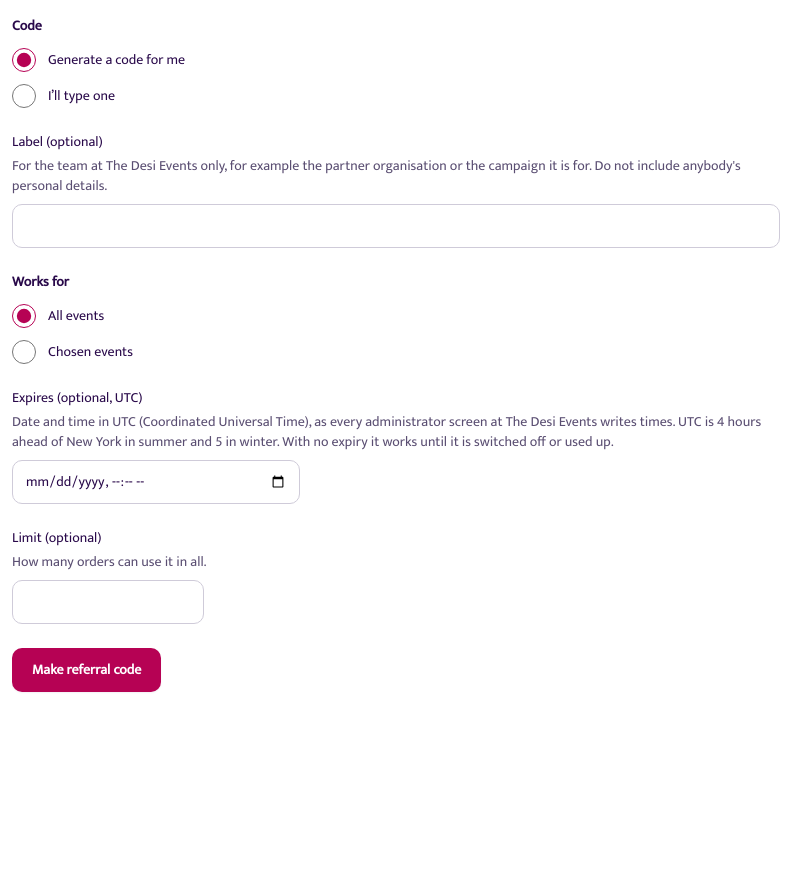
Scenario: making a referral code › puts the typed code’s problem in a summary that takes focus, before sending anything
The image size is (799, 877).
Click the radio button labelled "I’ll type one" at (24, 96), box [12,84,36,108]
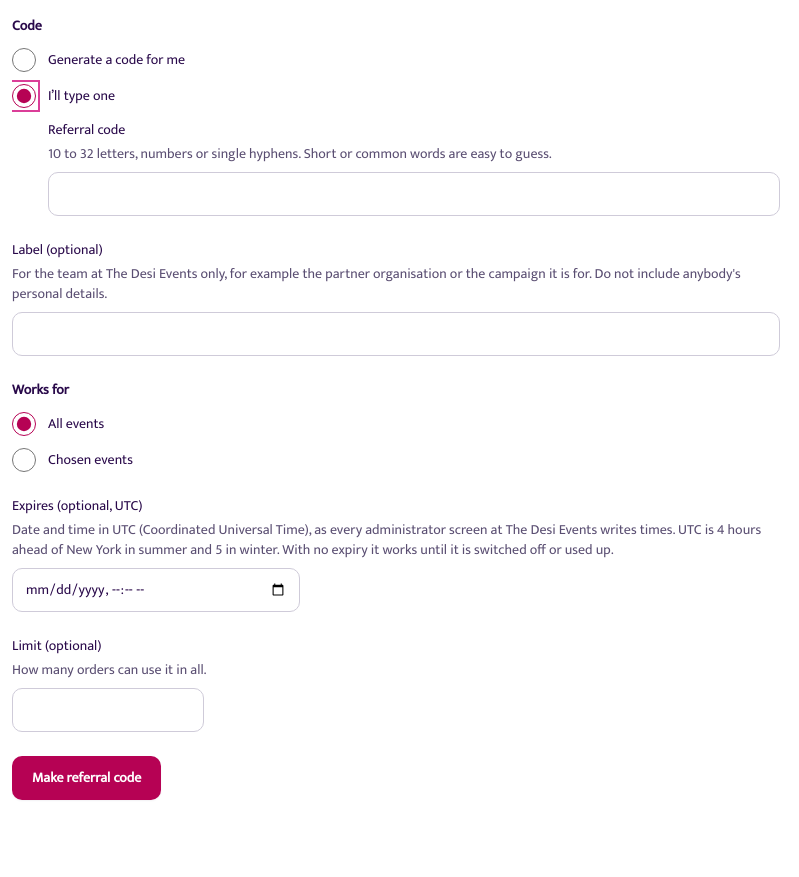
Type "ab" into the field labelled "Referral code" at (414, 194), box [48,172,780,216]
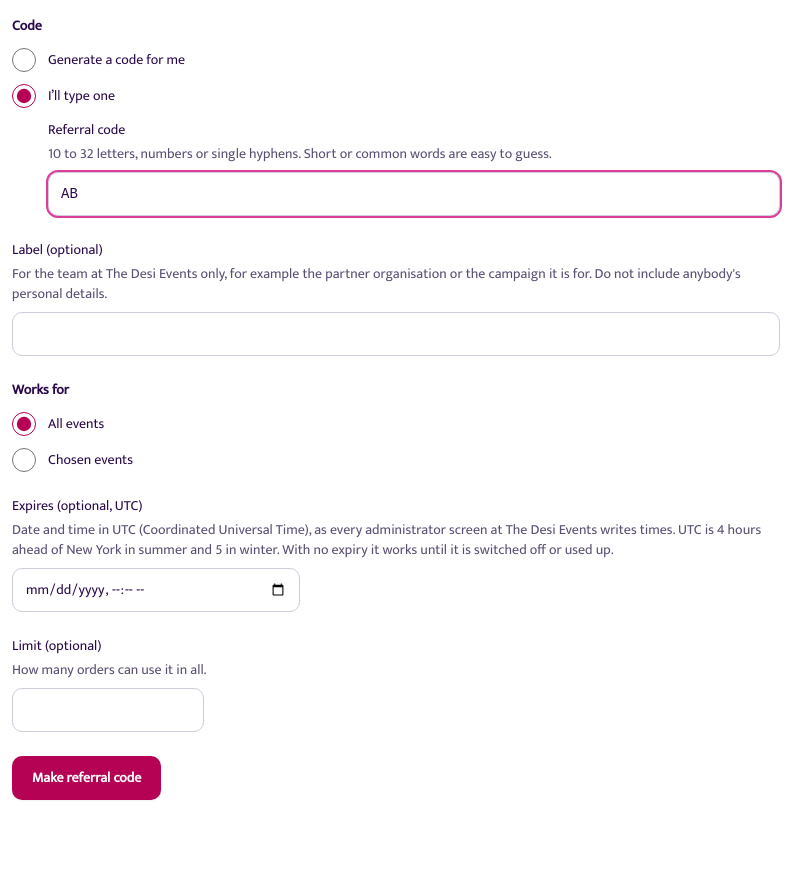
Type "0" into the field labelled "Limit (optional)" at (108, 710), box [12,688,204,732]
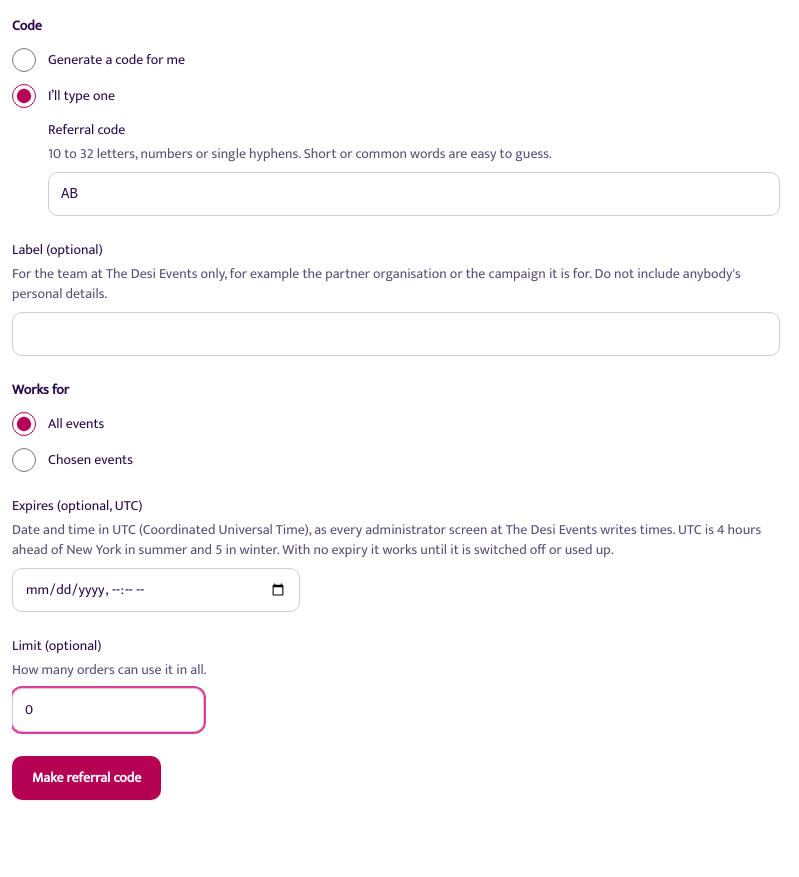
Click the button "Make referral code" at (87, 778), box [12,756,161,800]
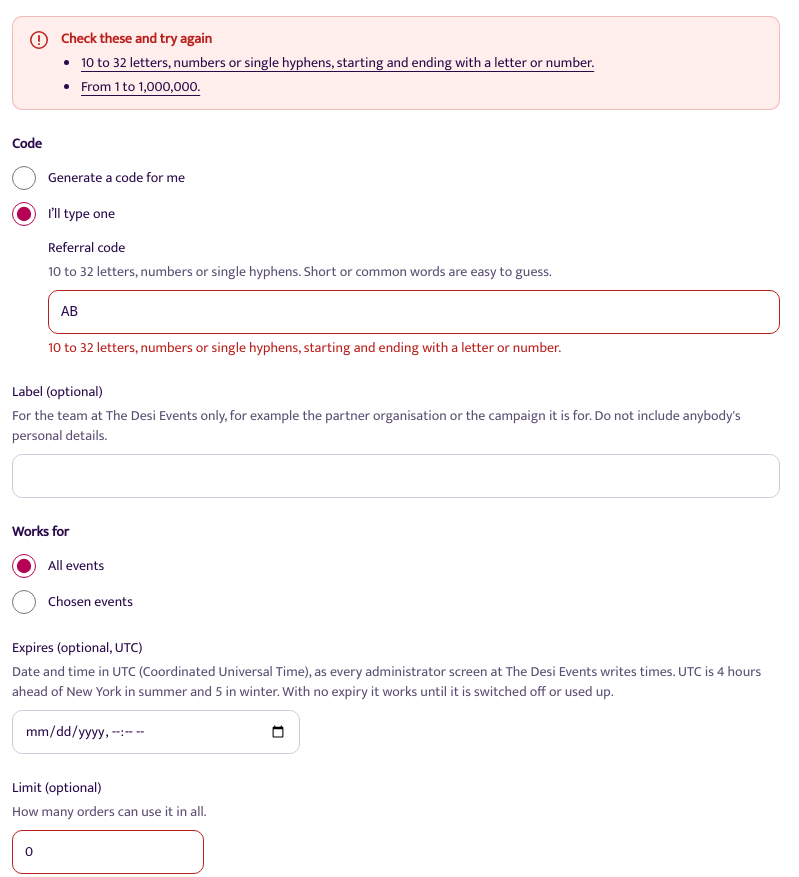
Expected: the link "From 1 to 1,000,000." is shown, [81,75,200,98]
